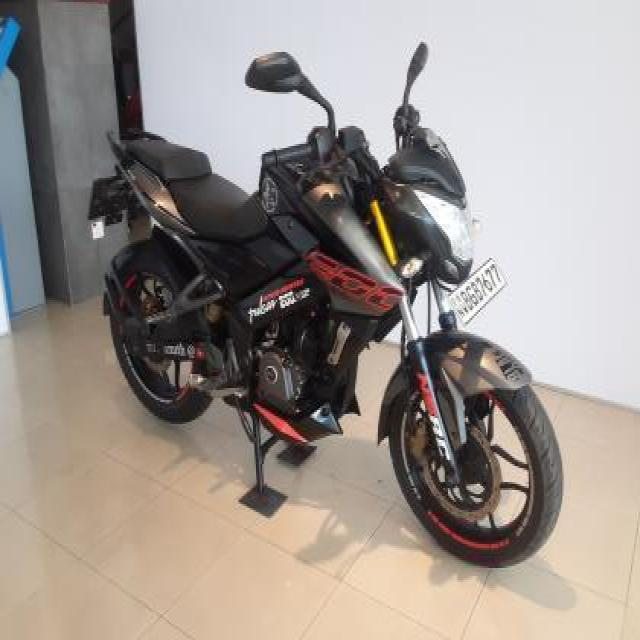motorcycle: (89, 39, 567, 562)
